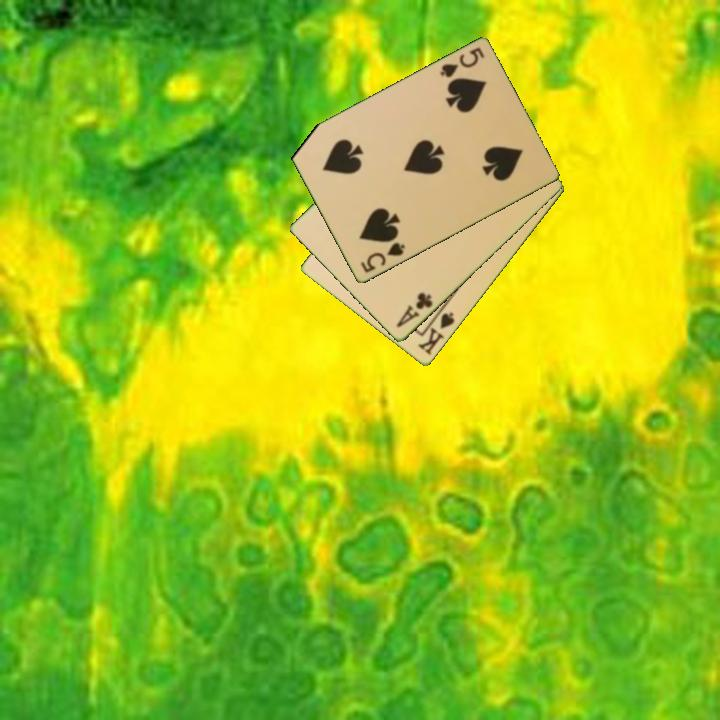5s: (357, 239, 408, 276), (436, 44, 487, 81)
Ac: (393, 289, 436, 331)
Ks: (414, 304, 458, 358)
